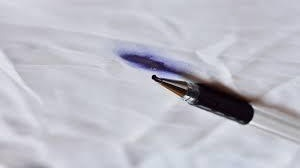ink: (120, 51, 174, 72)
